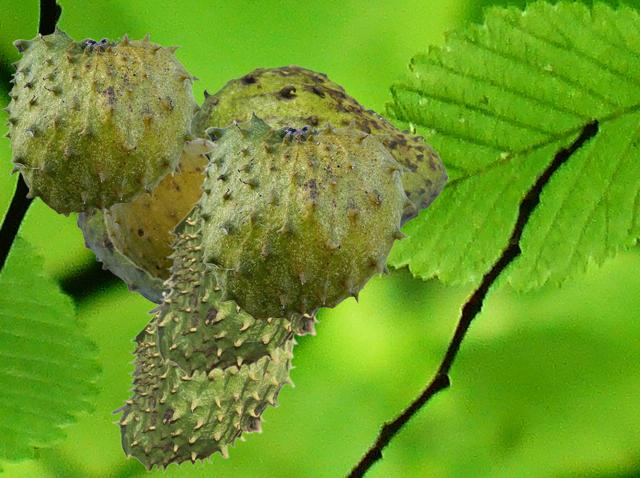guyabano: (192, 109, 415, 322), (191, 64, 447, 228), (1, 23, 204, 216), (146, 168, 321, 379), (110, 277, 295, 472), (101, 137, 215, 282), (75, 209, 169, 304)
